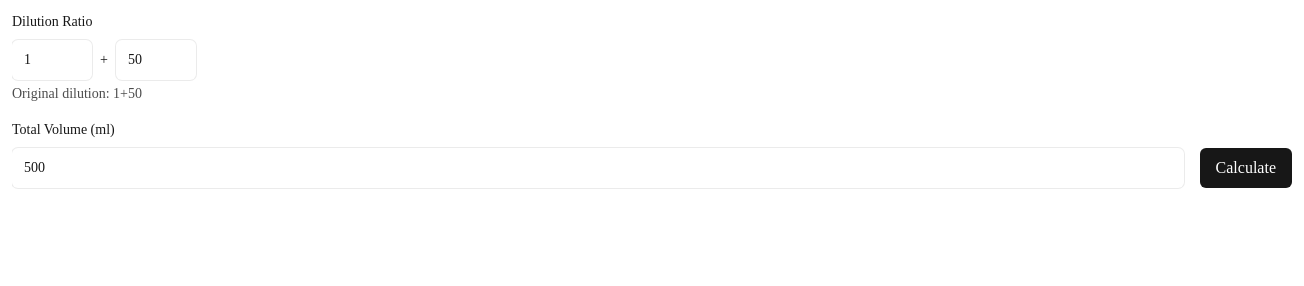
Test case: VolumeMixer › parses a plus-format dilution and calculates on demand
Click the button "Calculate": (1246, 168) [1200,148,1292,188]
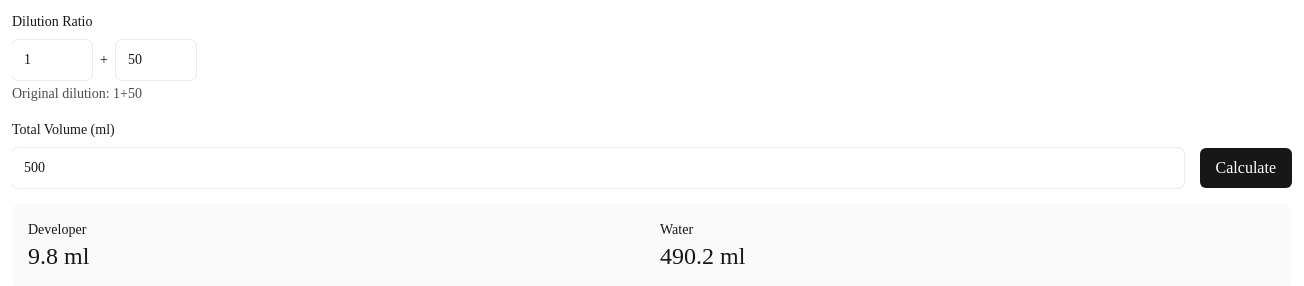
Now the text "9.8 ml" is shown, box [28,243,89,269]
Now the text "490.2 ml" is shown, box [660,243,745,269]
